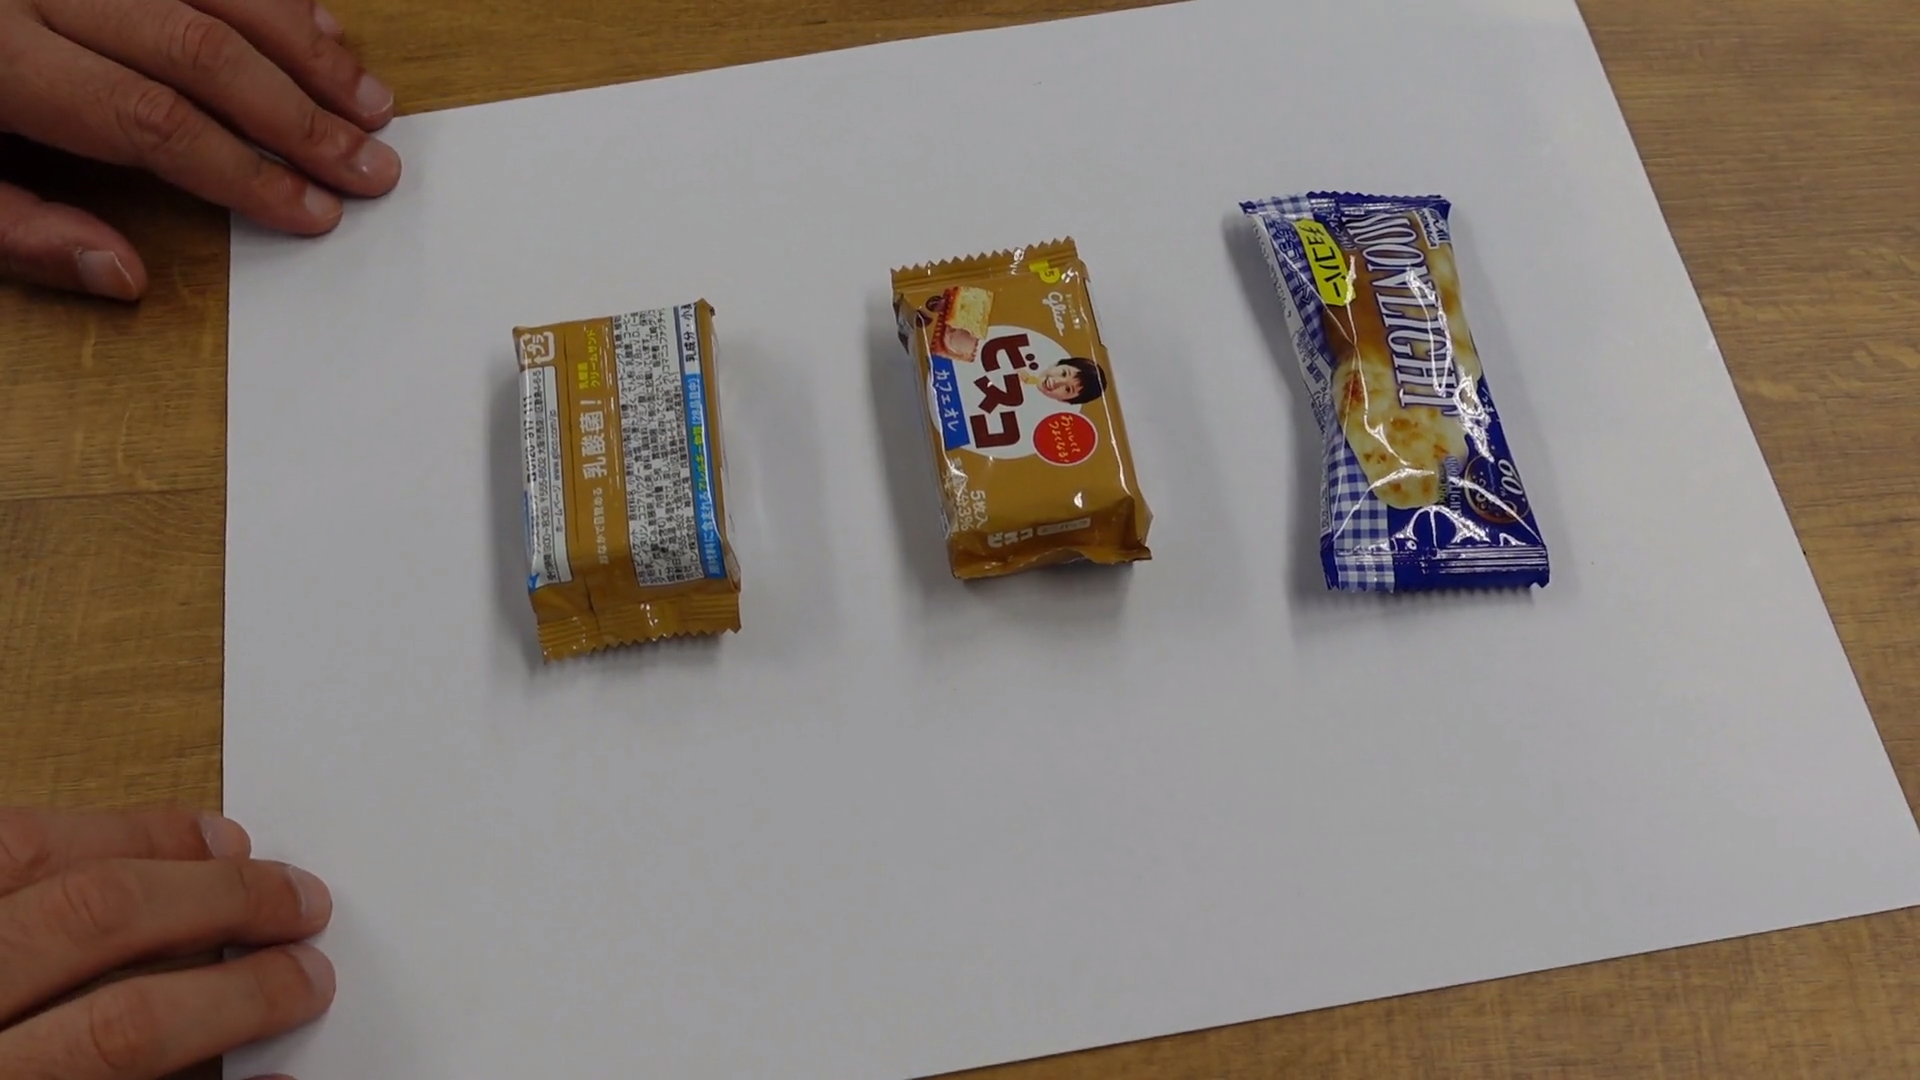BISCO_CafeAuLet: (895, 243, 1151, 582), (514, 299, 740, 661)
